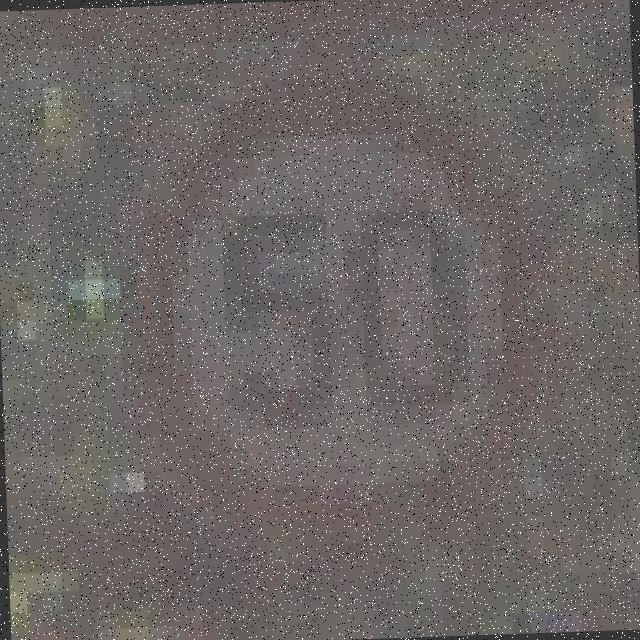Ograniczenie predkosci do 50: (122, 86, 546, 561)
